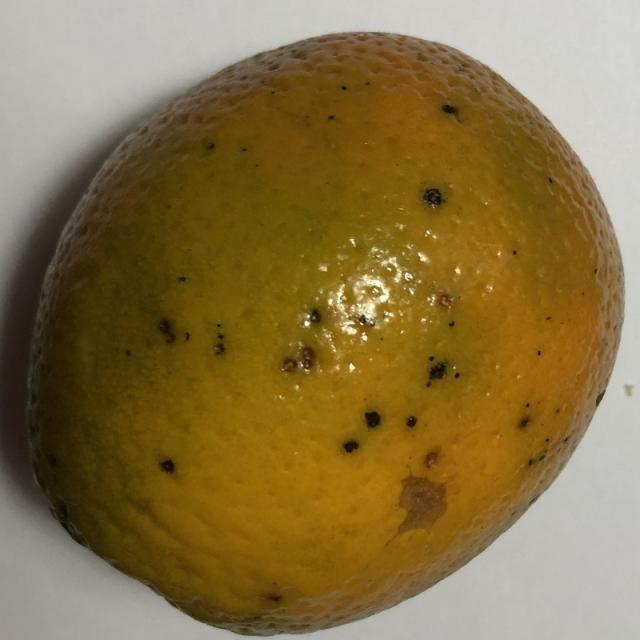blackspot: (18, 20, 637, 635)
